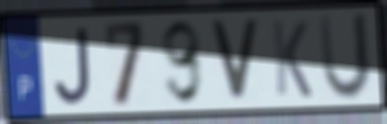7: (103, 19, 149, 110)
9: (158, 18, 206, 107)
J: (52, 24, 94, 107)
K: (269, 18, 314, 100)
U: (316, 10, 373, 104)
V: (207, 17, 261, 105)
